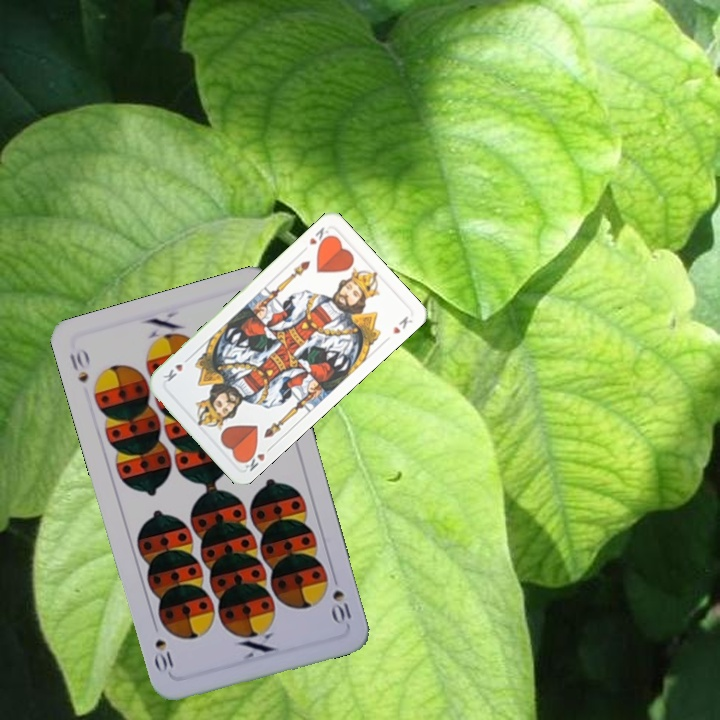HK: (238, 445, 268, 474), (305, 223, 334, 250)
S10: (328, 569, 354, 627), (65, 344, 92, 386)
